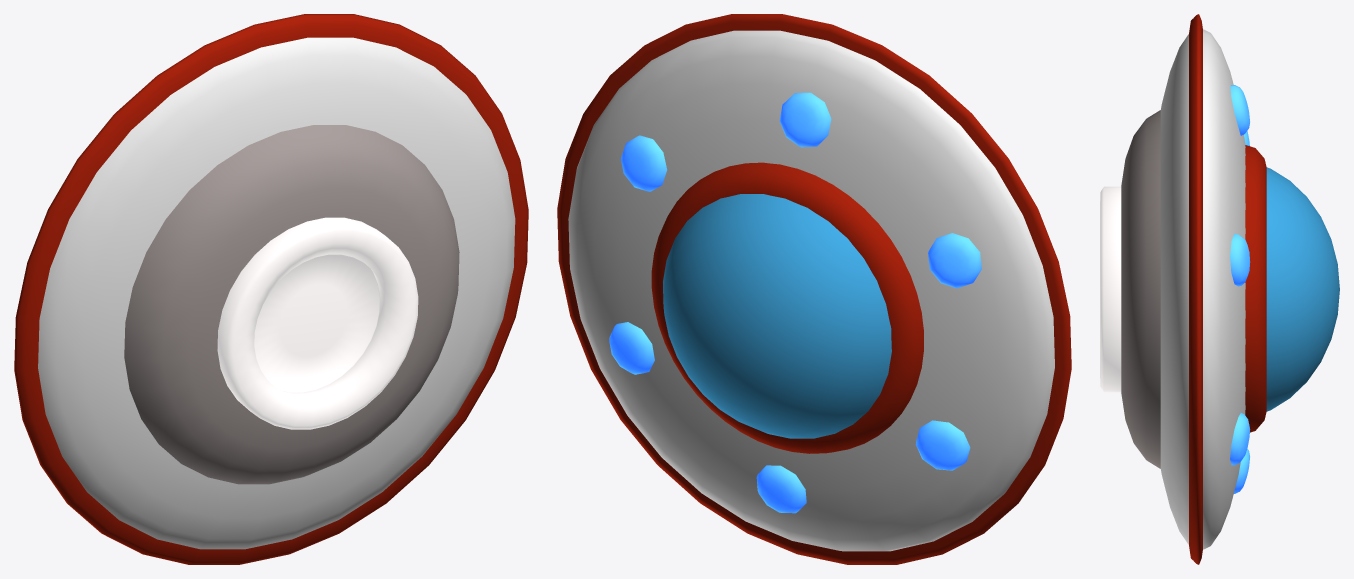
Rendered from ufo.glb.
3 views of the same model, side by side, from view 1: azimuth 30°, elevation 25°; view 2: azimuth 150°, elevation 25°; view 3: azimuth 270°, elevation 25° (orthographic). The views are drawn at different scales.
Parts seen in each view (by area): view 1: ufo; view 2: ufo; view 3: ufo.
Boxes of the visible parts, x1,y1,x2,y2 form: ufo: (14, 14, 528, 564); ufo: (557, 14, 1071, 564); ufo: (1100, 14, 1339, 564).
Size of the model in its own units: 182 by 182 by 79.24.
